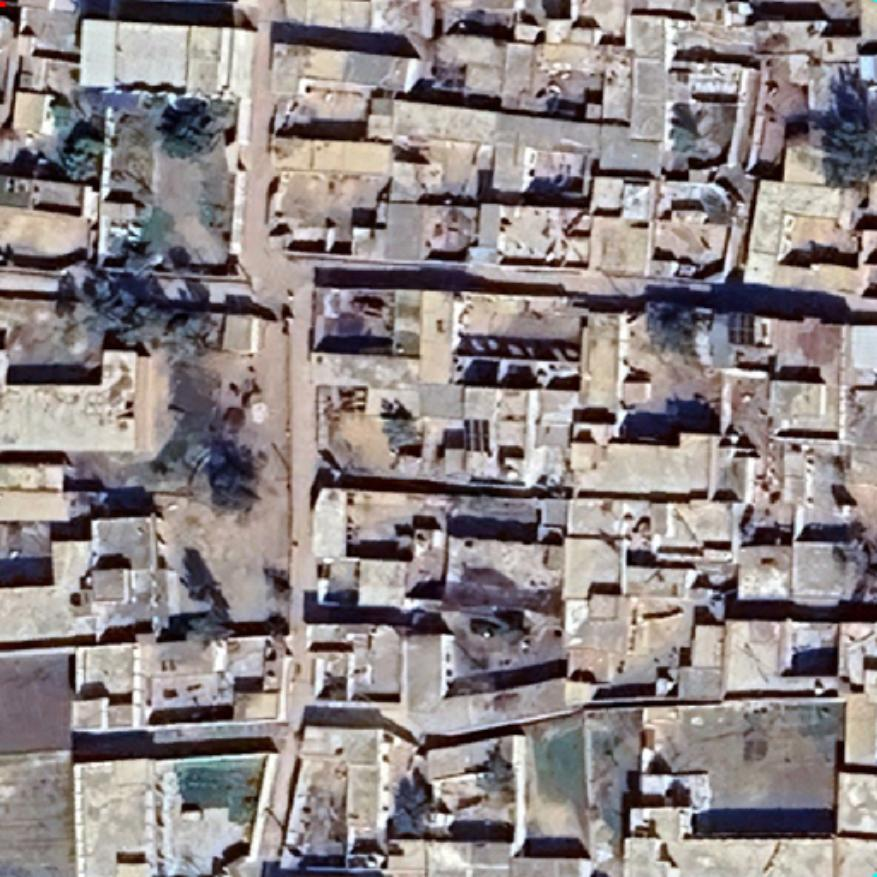Solarpanel: (460, 414, 494, 458), (724, 309, 760, 349)
